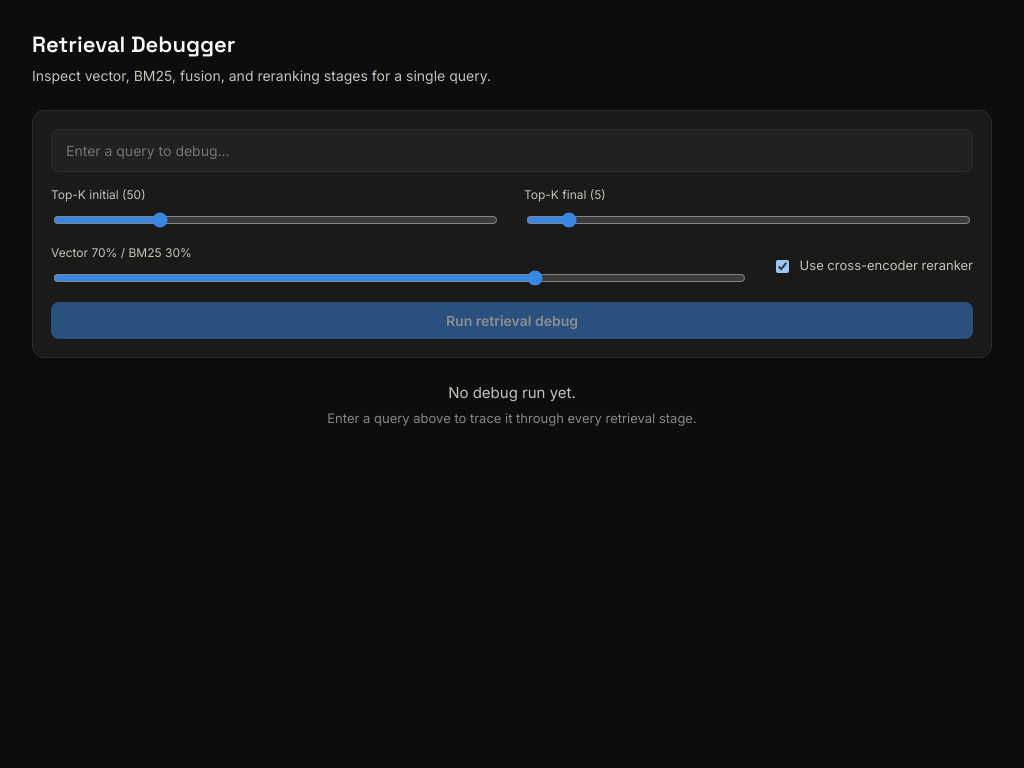
Test: RetrievalDebuggerView › switches stages and shows stage-specific scores
The width and height of the screenshot is (1024, 768).
Type "q" into the field with placeholder "Enter a query to debug…" at (512, 150), box [51,129,973,172]
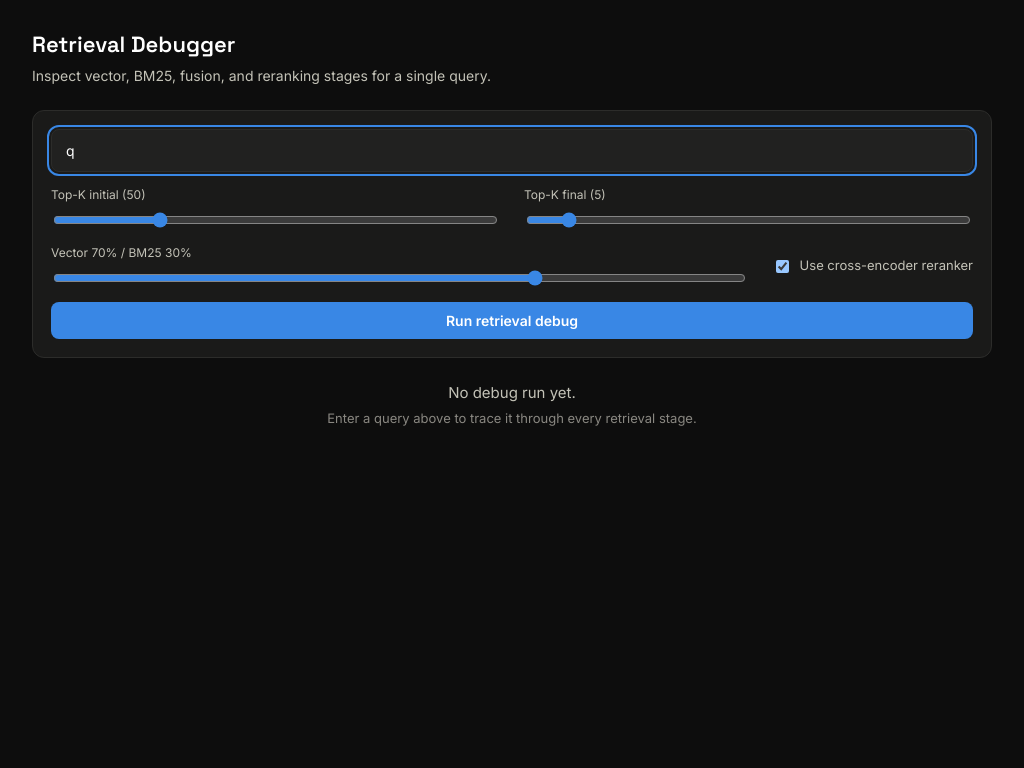
Click the button "Run retrieval debug" at (512, 320), box [51,302,973,339]
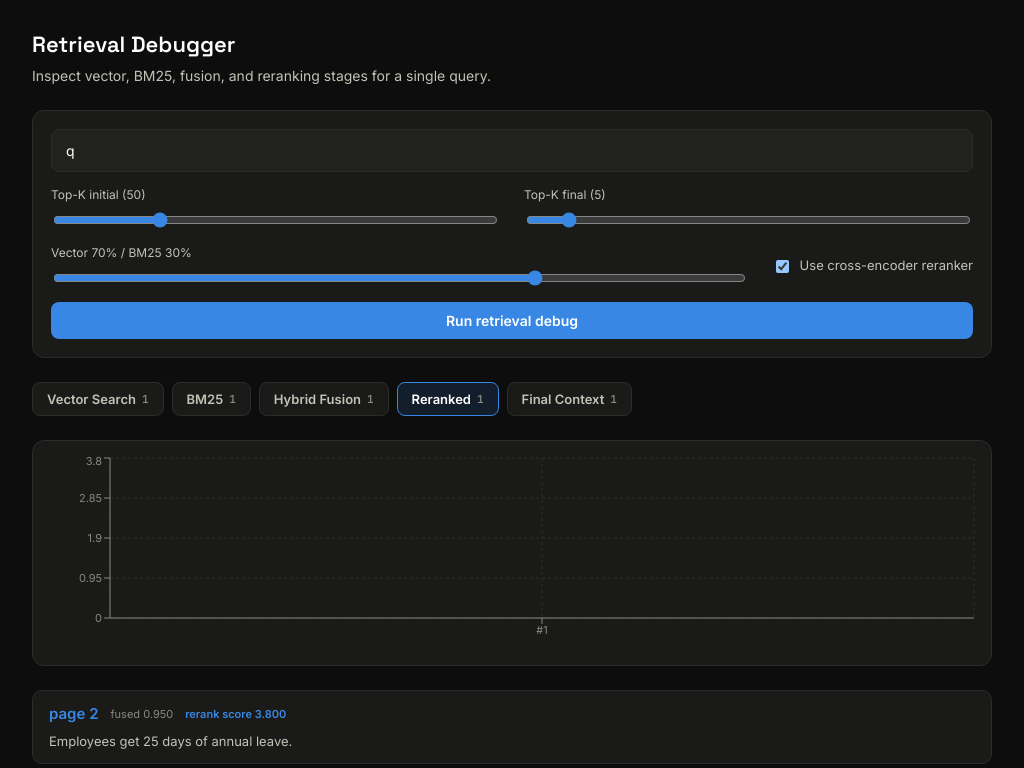
Expected: the text "Employees get 25 days of annual leave." is shown, [49,732,292,748]
Click the button "Hybrid Fusion 1" at (324, 399), box [259,382,389,416]
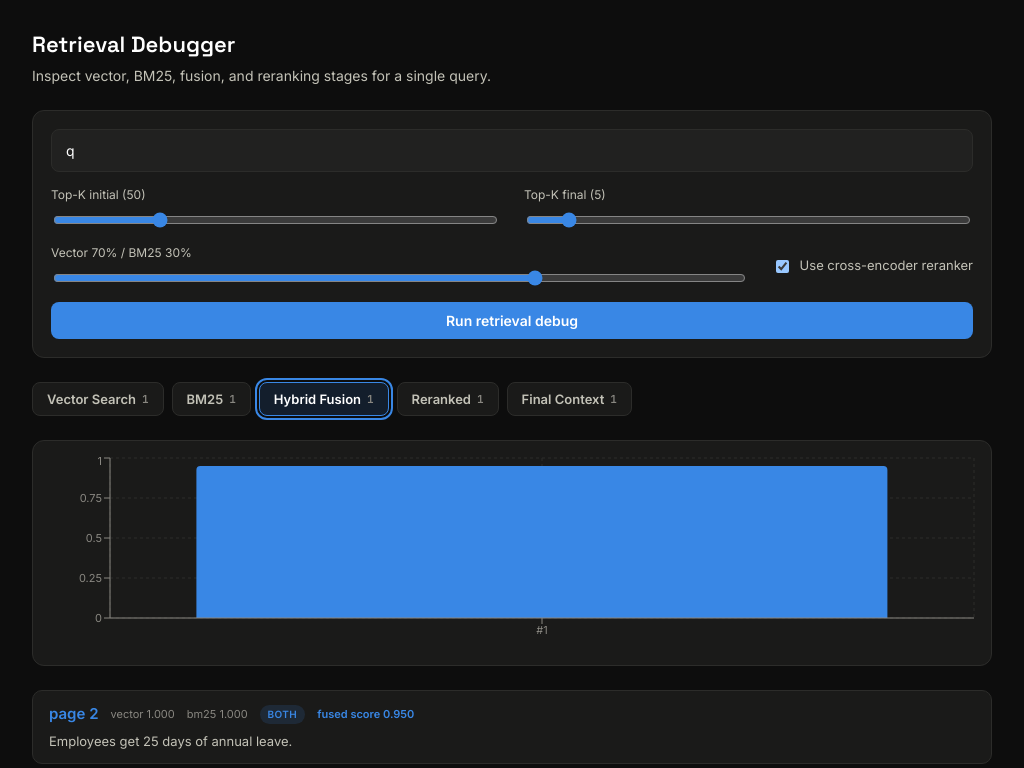
Expected: the text "vector 1.000" is shown, [110,706,175,722]
Expected: the text "bm25 1.000" is shown, [187,706,248,722]
Expected: the text "both" is shown, [260,705,305,724]
